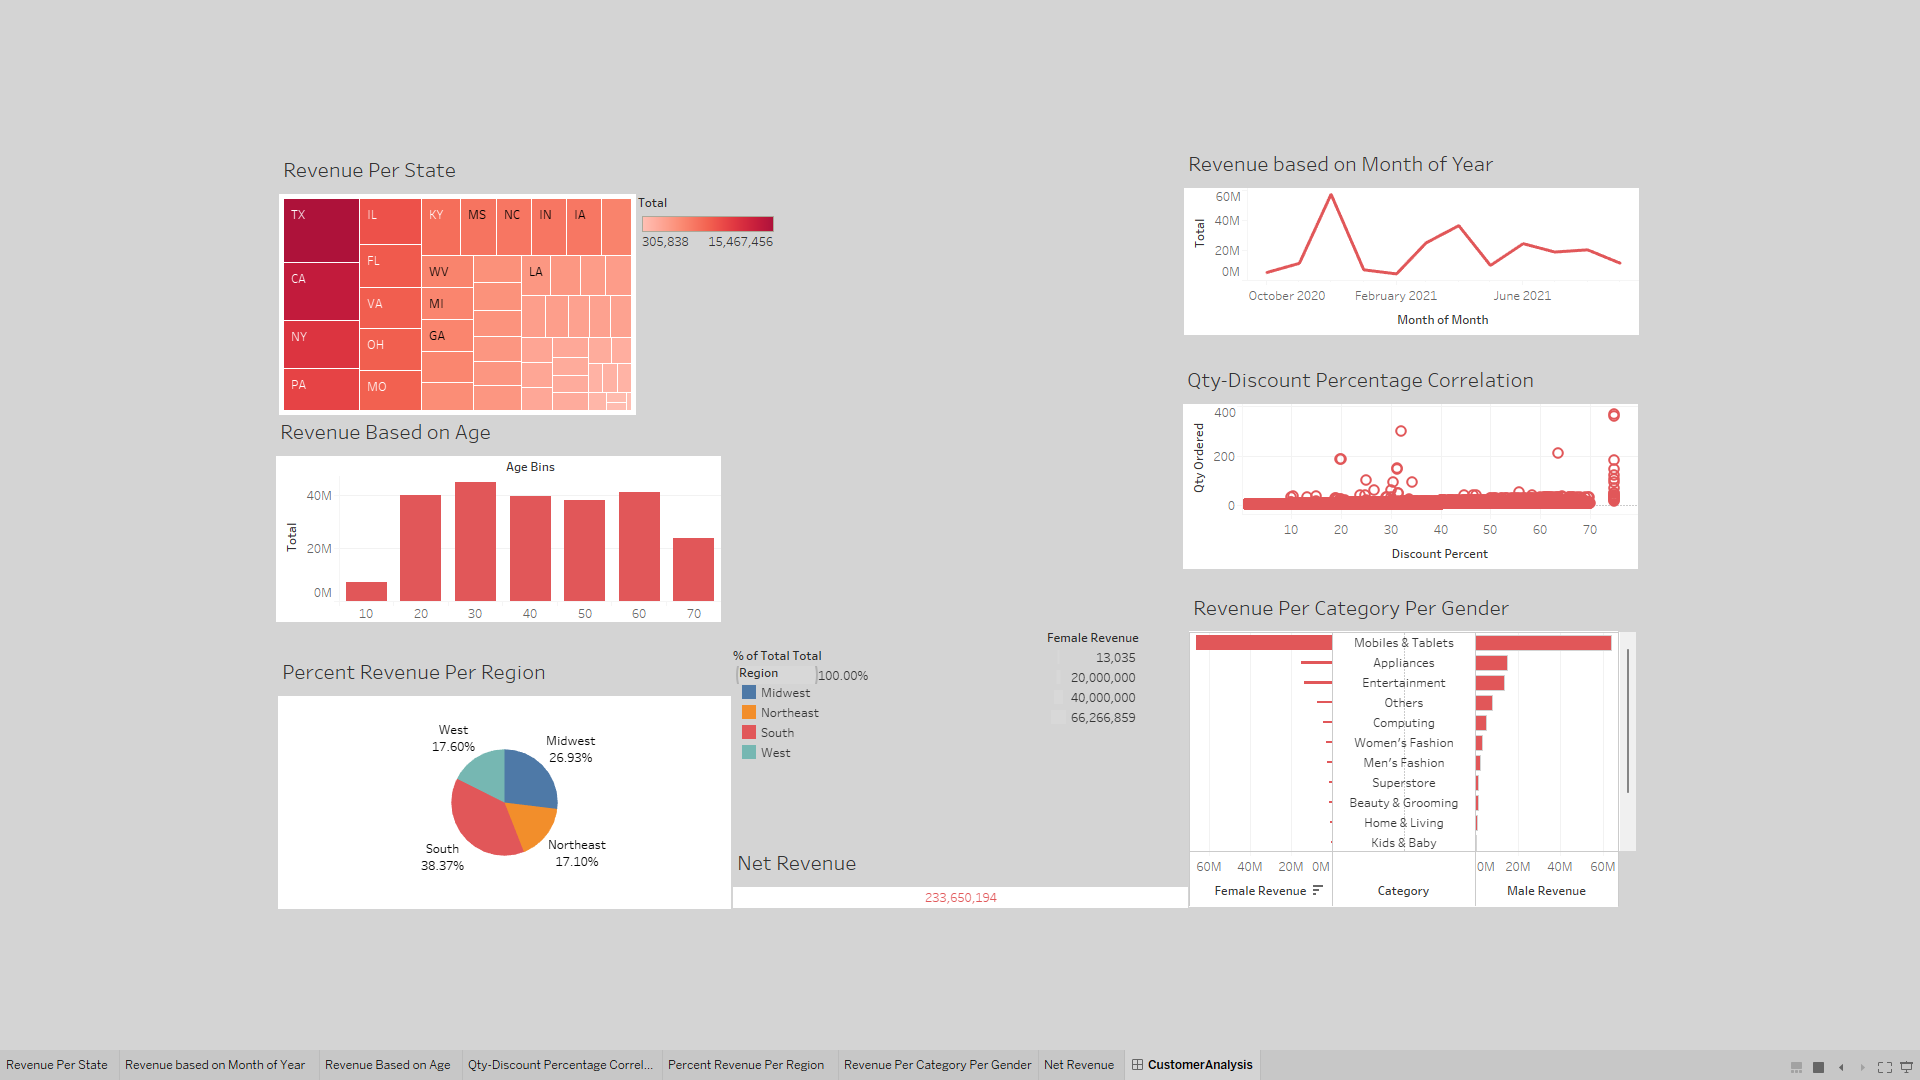

This screenshot's page, from the dashboard's own definition file:
{"tool":"tableau","page":{"name":"Dashboard 1","canvas":[1366,768],"ordinal":0},"visuals":[{"type":"worksheet","title":"Revenue based on Month of Year","mark":"Automatic","rows":["total"],"cols":["month"],"box":[907,4,455,190]},{"type":"worksheet","title":"Revenue Per State","mark":"Automatic","box":[2,10,756,264]},{"type":"legend","title":"Revenue Per State","param":"[federated.0dpoxh50m05wn81alfurx1iy9gg8].[sum:total:qk]","box":[368,60,140,76]},{"type":"worksheet","title":"Net Revenue","mark":"Text","box":[90,90,455,256]},{"type":"worksheet","title":"Qty-Discount Percentage Correlation","mark":"Automatic","rows":["qty_ordered"],"cols":["Discount_Percent"],"box":[906,220,455,208]},{"type":"worksheet","title":"Revenue Per Category Per Gender","mark":"Automatic","rows":["category"],"cols":["Calculation_1042020426846228480","Calculation_1042020426847117314","Calculation_1042020426846588929"],"box":[902,448,459,286]},{"type":"legend","title":"Revenue Per Category Per Gender","param":"[federated.0dpoxh50m05wn81alfurx1iy9gg8].[sum:Calculation_1042020426846228480:qk","box":[754,490,140,98]},{"type":"worksheet","title":"Percent Revenue Per Region","mark":"Pie","box":[1,506,455,256]},{"type":"legend","title":"Percent Revenue Per Region","param":"[federated.0dpoxh50m05wn81alfurx1iy9gg8].[pcto:sum:total:qk]","box":[456,506,140,38]},{"type":"legend","title":"Percent Revenue Per Region","param":"[federated.0dpoxh50m05wn81alfurx1iy9gg8].[none:Region:nk]","box":[462,523,140,98]}]}

Visuals, with their boxes on the page's 1366x768 design canvas (x1, y1, x2, y2). These are canvas units, not pixel positions in the 1920x1080 screenshot, which may show the page scaled, cropped or inside an application window:
"Revenue based on Month of Year" worksheet: [907, 4, 1362, 194]
"Revenue Per State" worksheet: [2, 10, 758, 274]
"Revenue Per State" legend: [368, 60, 508, 136]
"Net Revenue" worksheet (Text marks): [90, 90, 545, 346]
"Qty-Discount Percentage Correlation" worksheet: [906, 220, 1361, 428]
"Revenue Per Category Per Gender" worksheet: [902, 448, 1361, 734]
"Revenue Per Category Per Gender" legend: [754, 490, 894, 588]
"Percent Revenue Per Region" worksheet (Pie marks): [1, 506, 456, 762]
"Percent Revenue Per Region" legend: [456, 506, 596, 544]
"Percent Revenue Per Region" legend: [462, 523, 602, 621]
